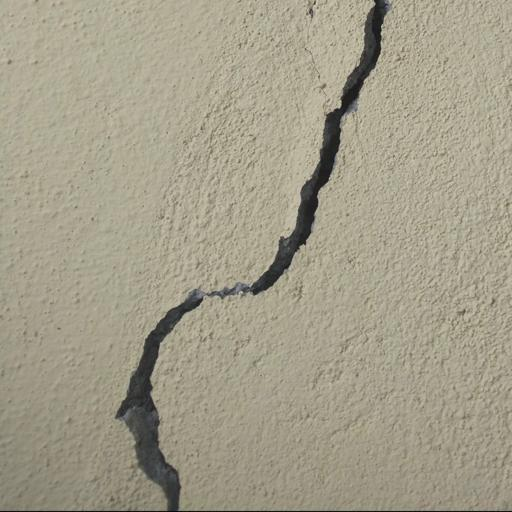major_crack: (118, 0, 396, 512)
